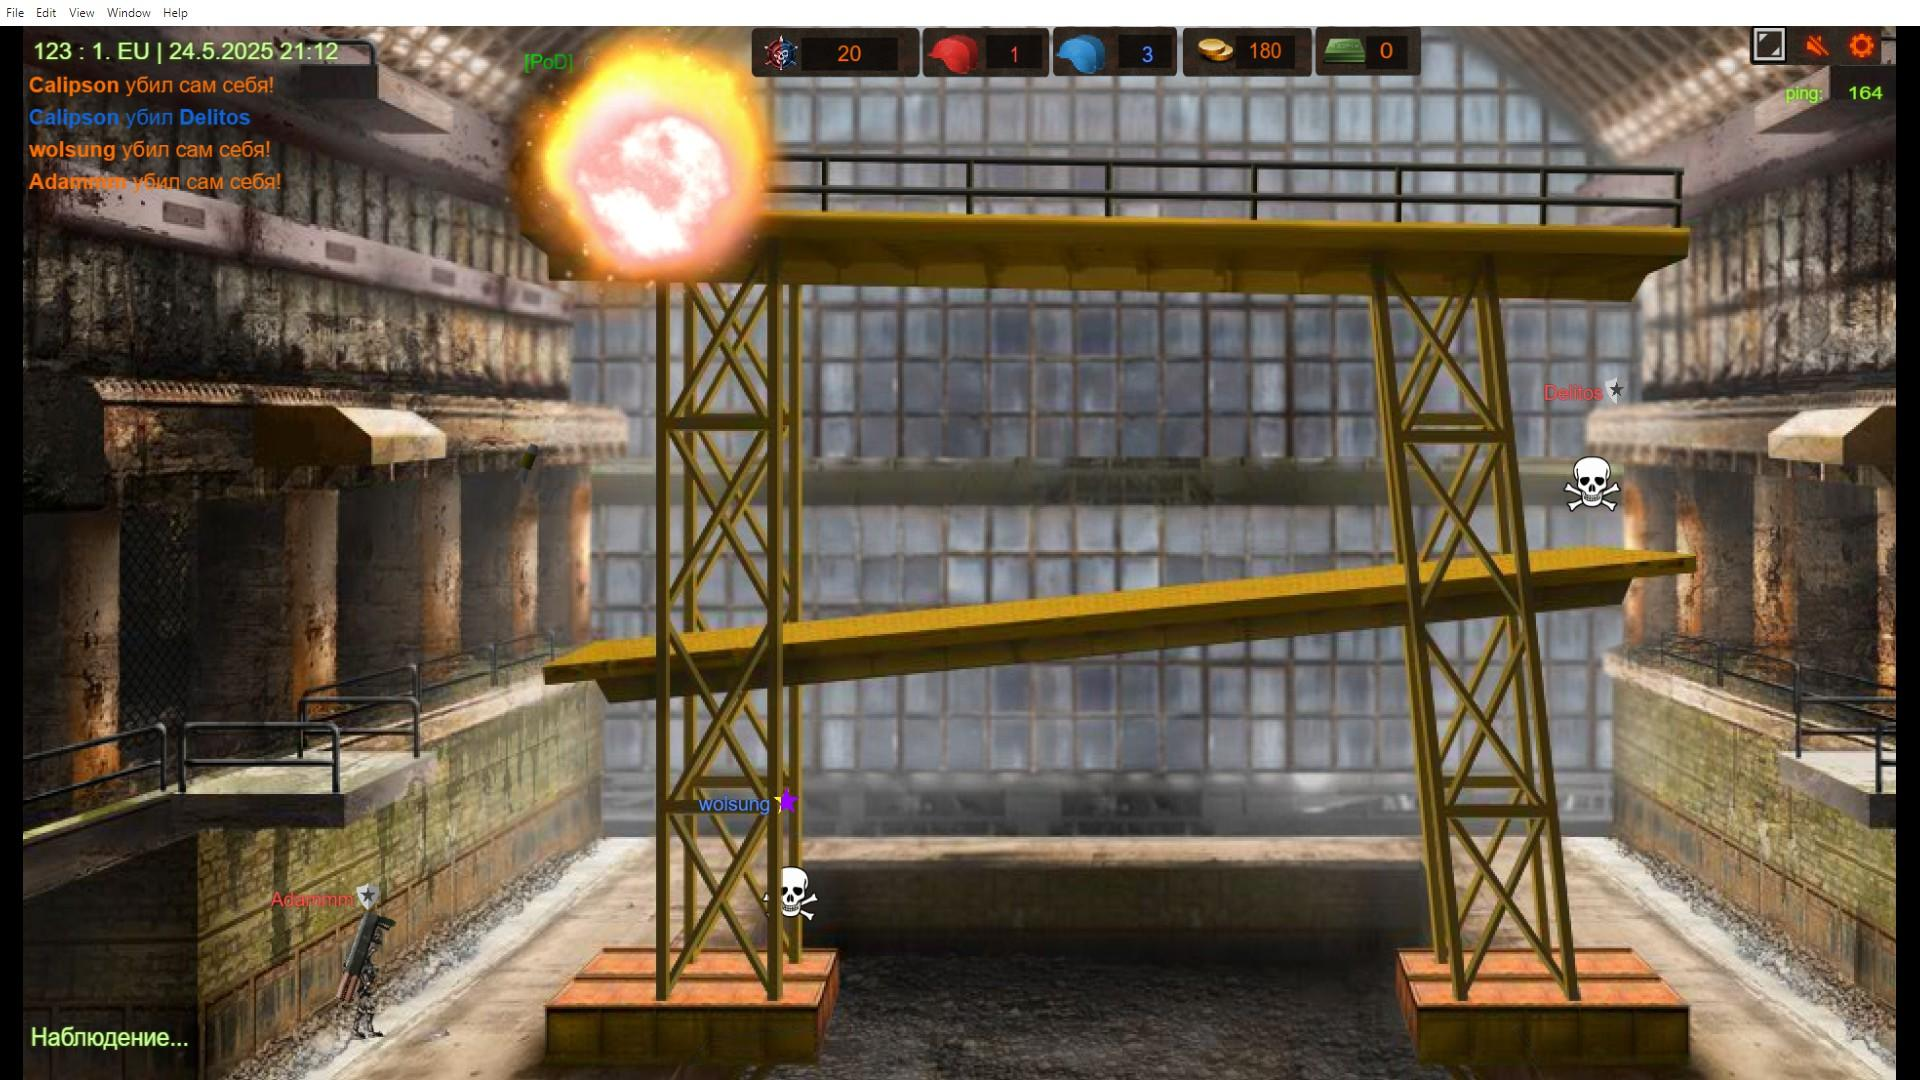enemy: (348, 943, 378, 1040)
